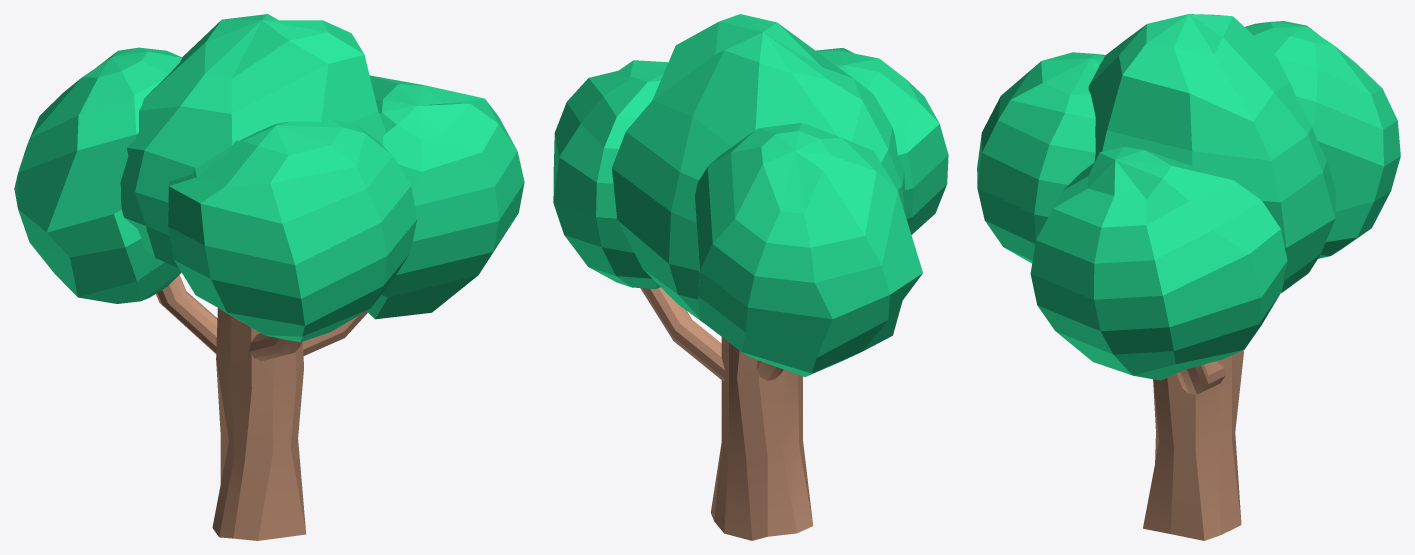
The model's file is Tree_two.fbx.
3 views of the same model, side by side, from view 1: azimuth 30°, elevation 25°; view 2: azimuth 150°, elevation 25°; view 3: azimuth 270°, elevation 25° (orthographic). The views are drawn at different scales.
Visible parts, largest first — view 1: pasted__Leaves3; view 2: pasted__Leaves3; view 3: pasted__Leaves3.
Boxes of the visible parts, x1,y1,x2,y2 form: pasted__Leaves3: (14,14,524,540); pasted__Leaves3: (553,14,948,540); pasted__Leaves3: (977,14,1400,540).
Bounding box in the file's own units: 1.81 × 2.09 × 1.58.
